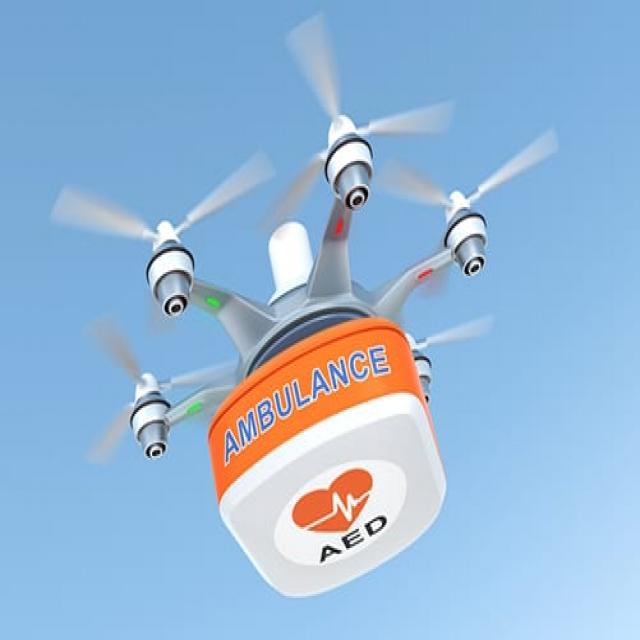drones: (42, 11, 567, 602)
